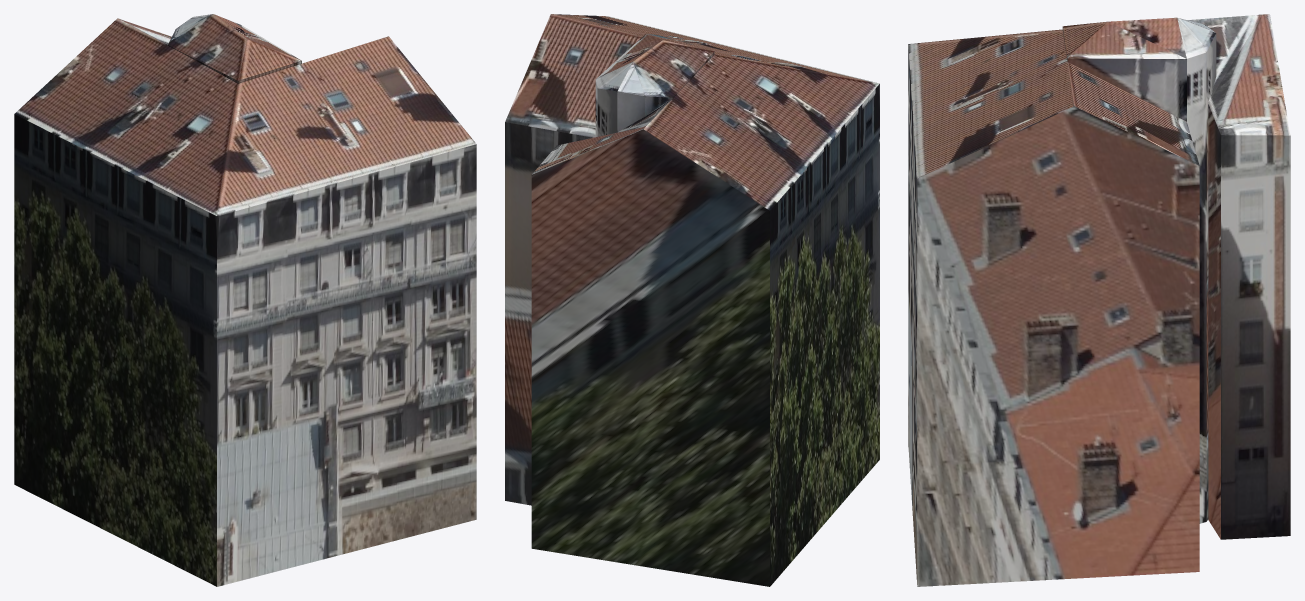
3 renders of one model, left to right at view 1: azimuth 30°, elevation 25°; view 2: azimuth 150°, elevation 25°; view 3: azimuth 270°, elevation 25°, orthographic. The views are drawn at different scales.
Parts seen in each view (by area): view 1: Z_UP; view 2: Z_UP; view 3: Z_UP.
Boxes of the visible parts, x1,y1,x2,y2 form: Z_UP: (14, 14, 476, 586); Z_UP: (505, 14, 879, 586); Z_UP: (908, 14, 1290, 586).
Bounding box in the file's own units: 20.46 × 28.5 × 20.02.
Materials: 2 (1 with a texture image).
